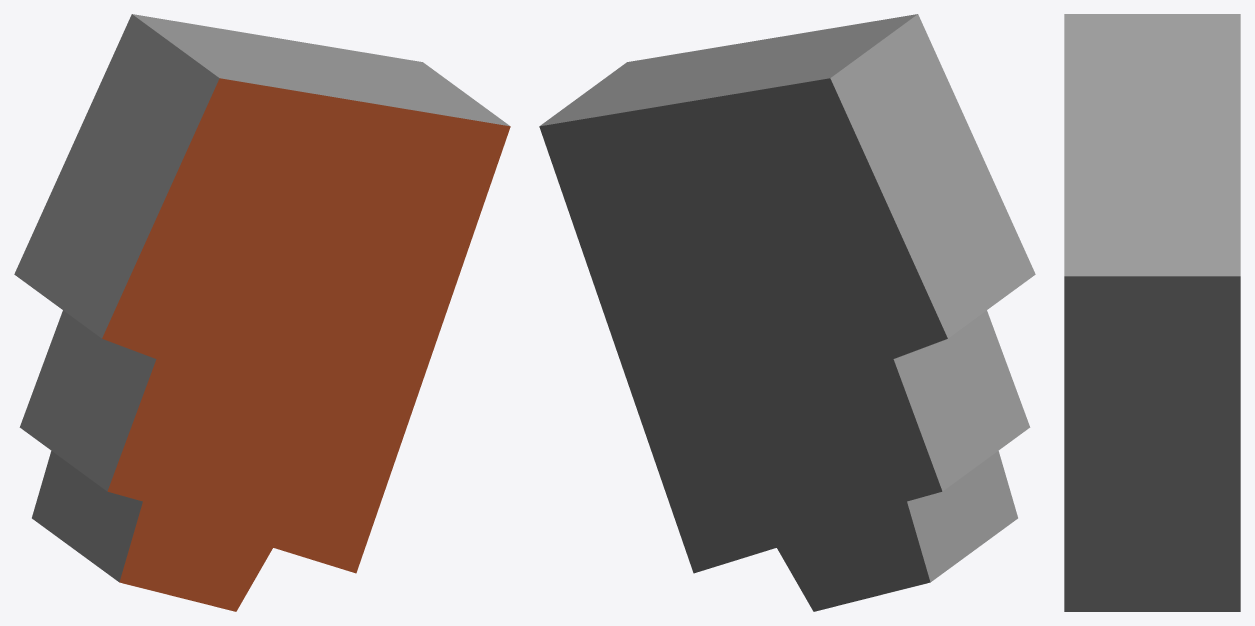
Rendered from construction_6049_assumed_A_Casa_h6m.obj.
3 renders of one model, left to right at view 1: azimuth 30°, elevation 25°; view 2: azimuth 150°, elevation 25°; view 3: azimuth 270°, elevation 25°, orthographic.
Parts seen in each view (by area): view 1: construction_6049_assumed_A_Casa; view 2: construction_6049_assumed_A_Casa; view 3: construction_6049_assumed_A_Casa.
Boxes of the visible parts, x1,y1,x2,y2 form: construction_6049_assumed_A_Casa: (14,14,510,611); construction_6049_assumed_A_Casa: (539,14,1035,611); construction_6049_assumed_A_Casa: (1064,14,1240,611).
Bounding box in the file's own units: 16.13 × 20.28 × 6.
